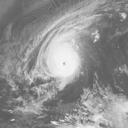cyclone: (35, 33, 83, 86)
